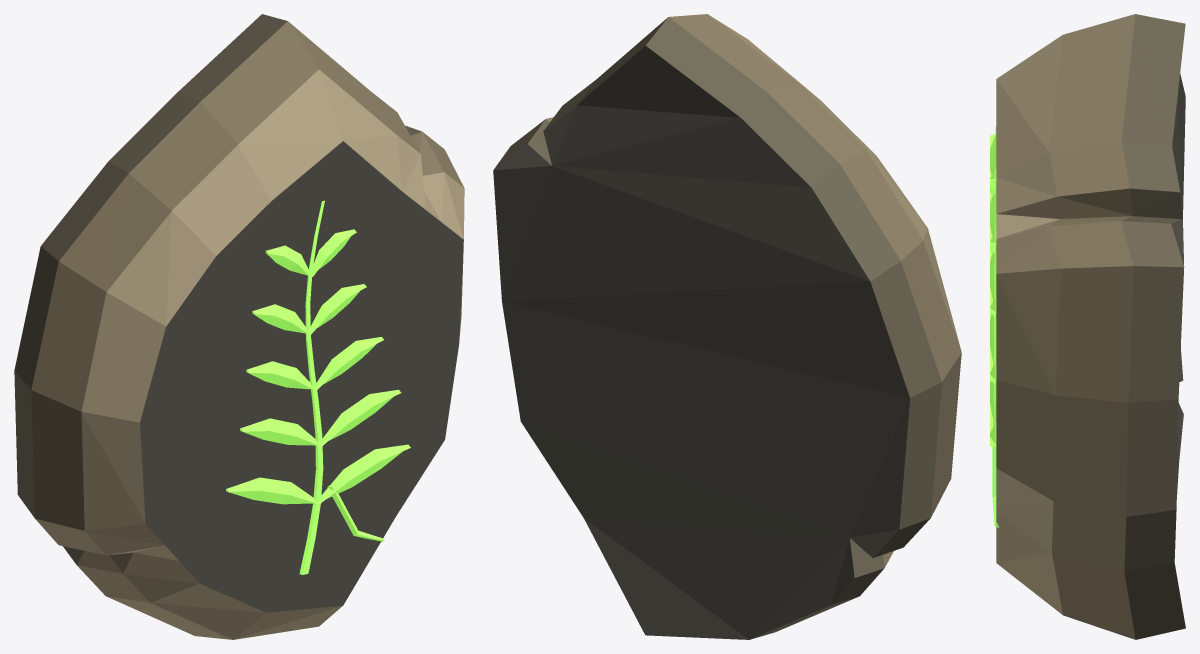
File: FERNSTONE_GREEN.lo.glb
The picture shows the model from 3 angles, left to right: view 1: azimuth 30°, elevation 25°; view 2: azimuth 150°, elevation 25°; view 3: azimuth 270°, elevation 25°; orthographic projection. The views are drawn at different scales.
Visible parts, largest first — view 1: Body_Mesh; view 2: Body_Mesh; view 3: Body_Mesh.
Boxes of the visible parts, x1,y1,x2,y2 form: Body_Mesh: (14,14,464,639); Body_Mesh: (493,14,961,639); Body_Mesh: (990,14,1185,639).
Bounding box in the file's own units: 0.2707 × 0.3709 × 0.1052.
1 material, 1 textured.
